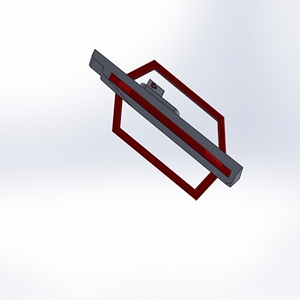submarine: (74, 37, 258, 217)
